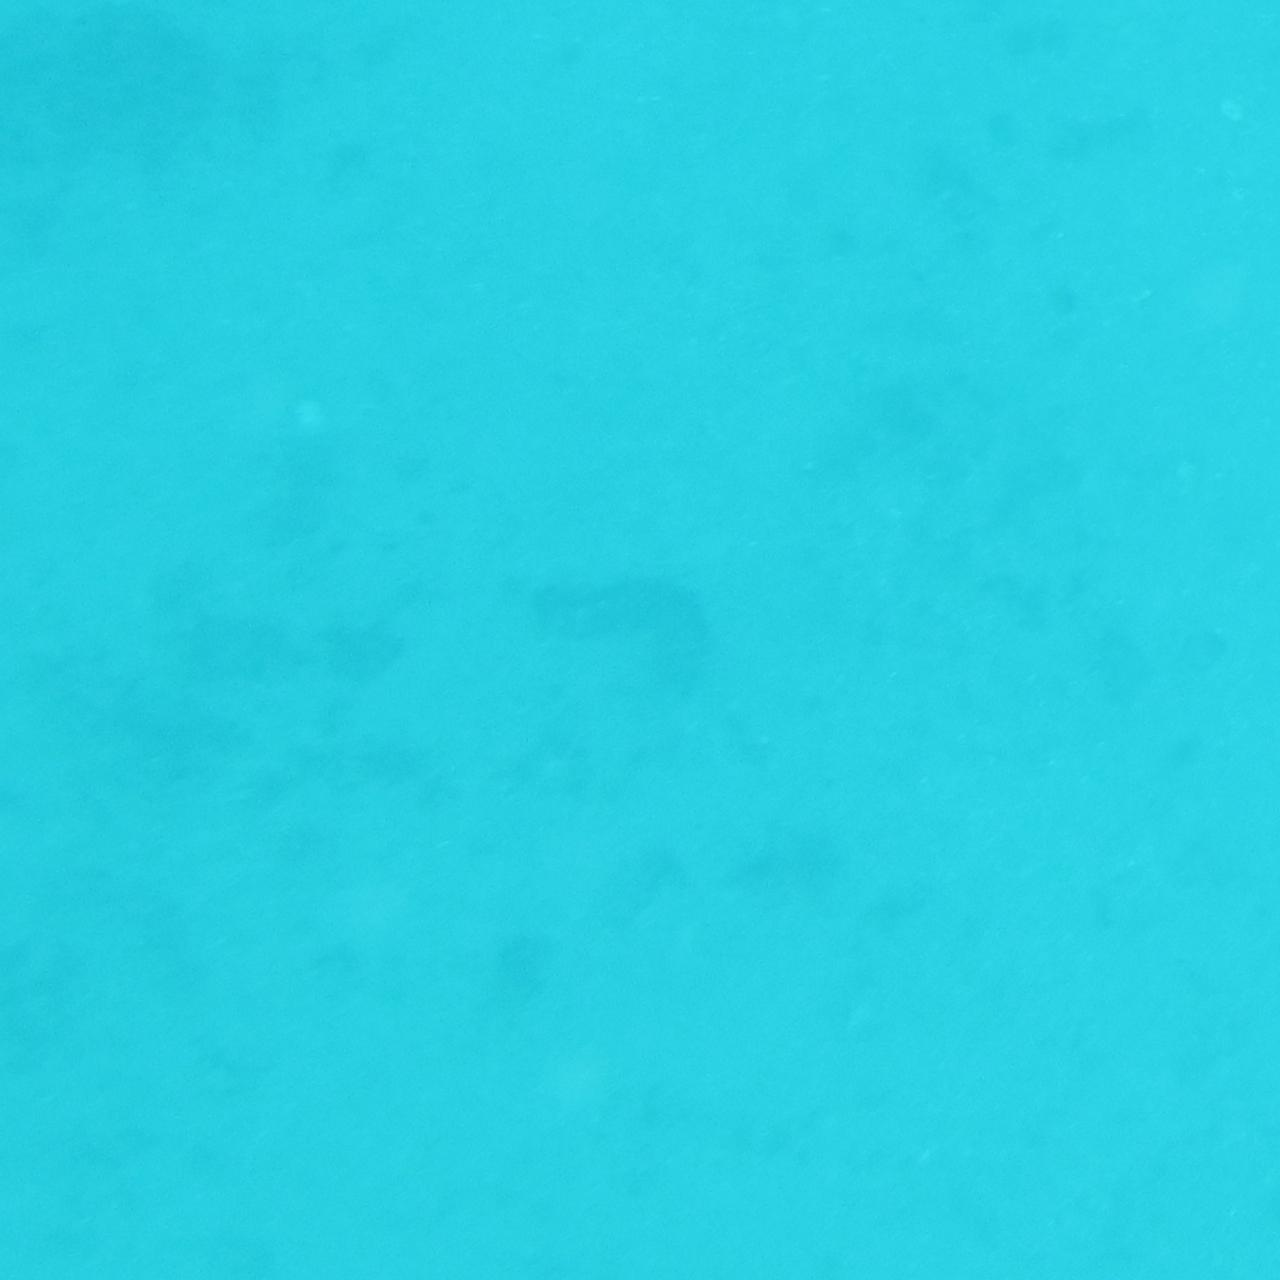Holothuria tubulosa: (536, 566, 744, 714)
